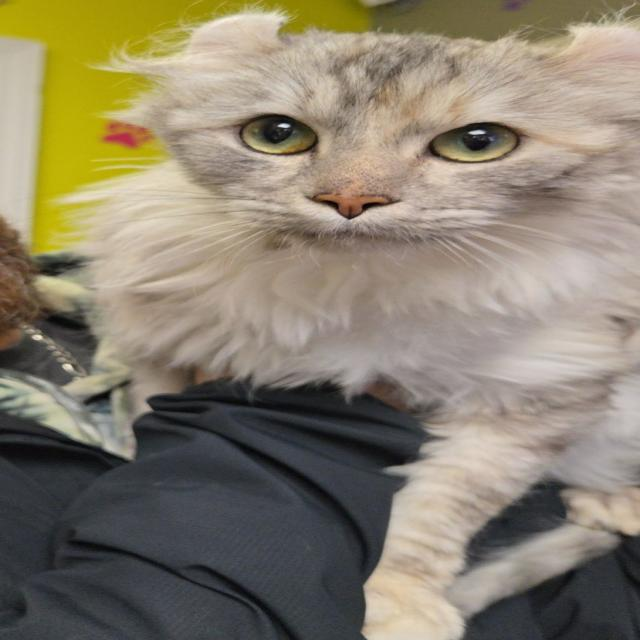American Curl: (68, 5, 640, 640)
